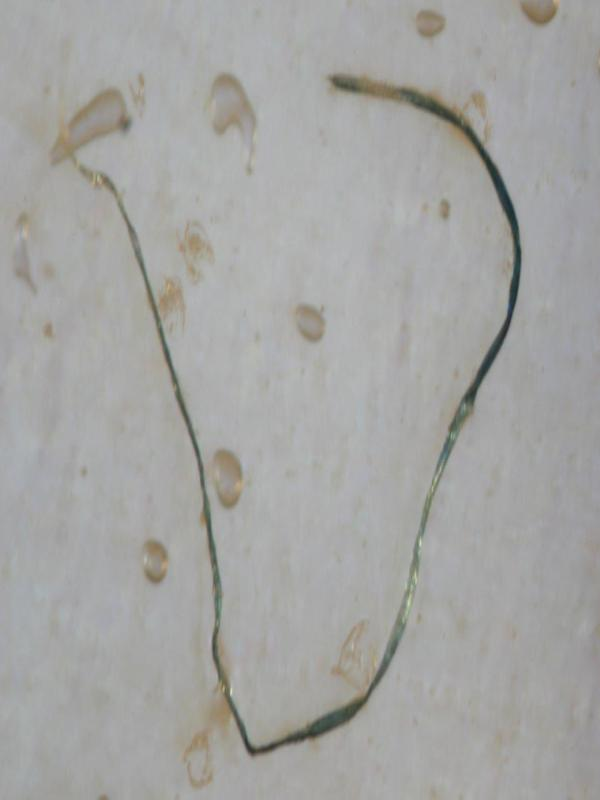microplastic: (49, 64, 523, 757)
